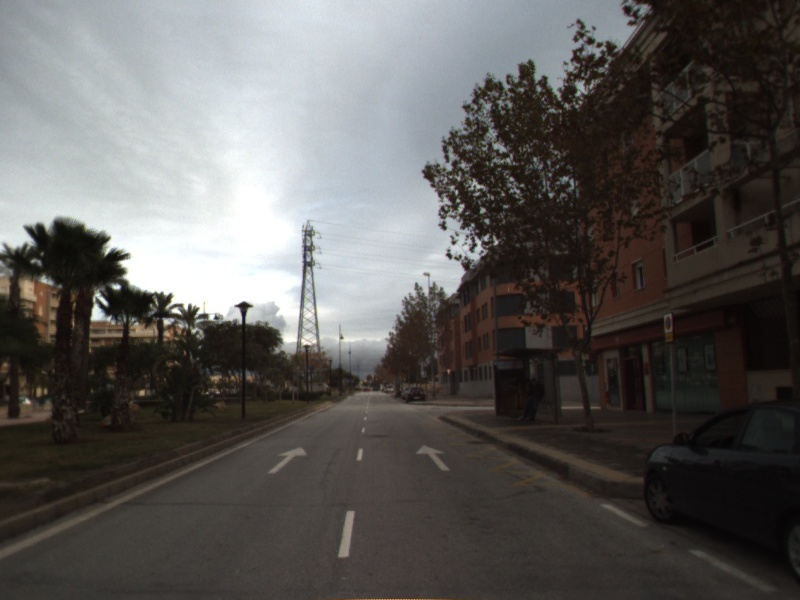STRAIGHT: (266, 445, 309, 476), (414, 442, 452, 472)
